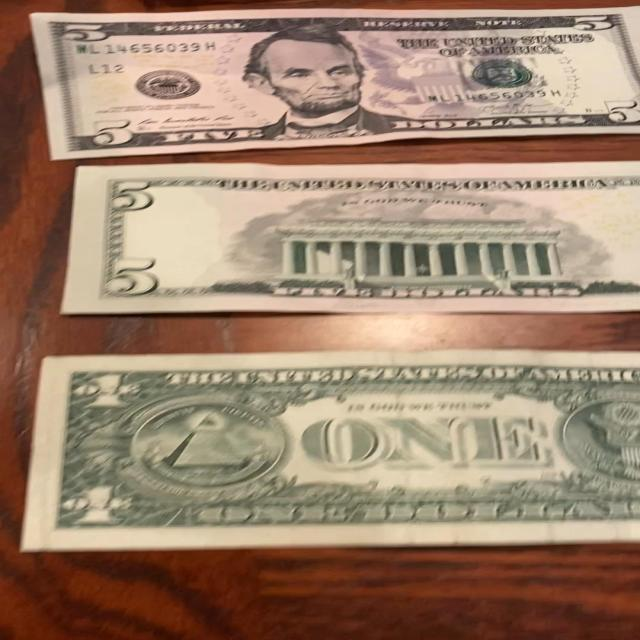1-Front: (11, 344, 637, 552)
5-Back: (53, 158, 640, 322)
5-Front: (23, 2, 640, 162)
